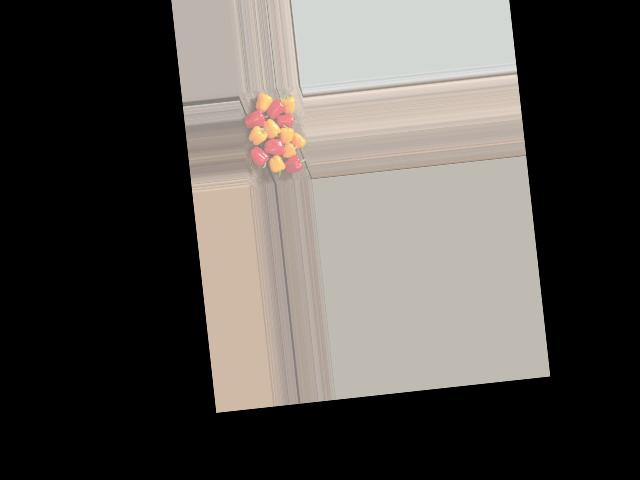bell_pepper: (250, 91, 274, 118)
